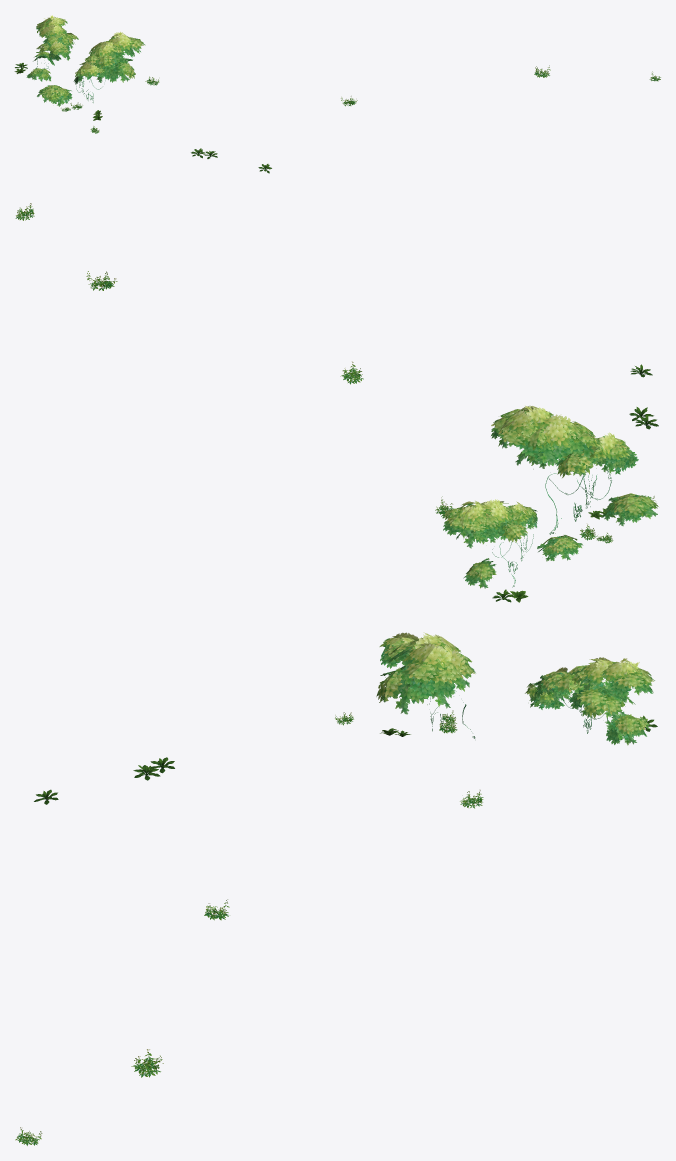
File: zhibei.fbx
3 renders of one model, top to bottom at view 1: azimuth 30°, elevation 25°; view 2: azimuth 150°, elevation 25°; view 3: azimuth 270°, elevation 25°, orthographic. The views are drawn at different scales.
Visible parts, largest first — view 1: zhibei; view 2: zhibei; view 3: zhibei.
Boxes of the visible parts, x1=… form: zhibei: x1=14, y1=15, x2=660, y2=173; zhibei: x1=15, y1=203, x2=658, y2=602; zhibei: x1=15, y1=632, x2=657, y2=1145.
Bounding box in the file's own units: 11121 × 1446 × 6695.
